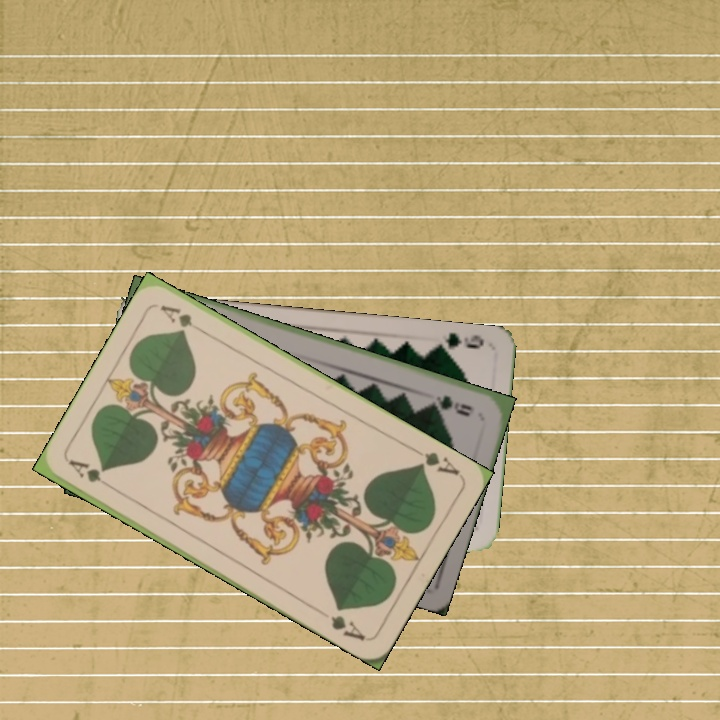G9: (430, 328, 487, 355), (424, 391, 476, 419)
GA: (64, 455, 118, 494), (408, 443, 462, 479)
